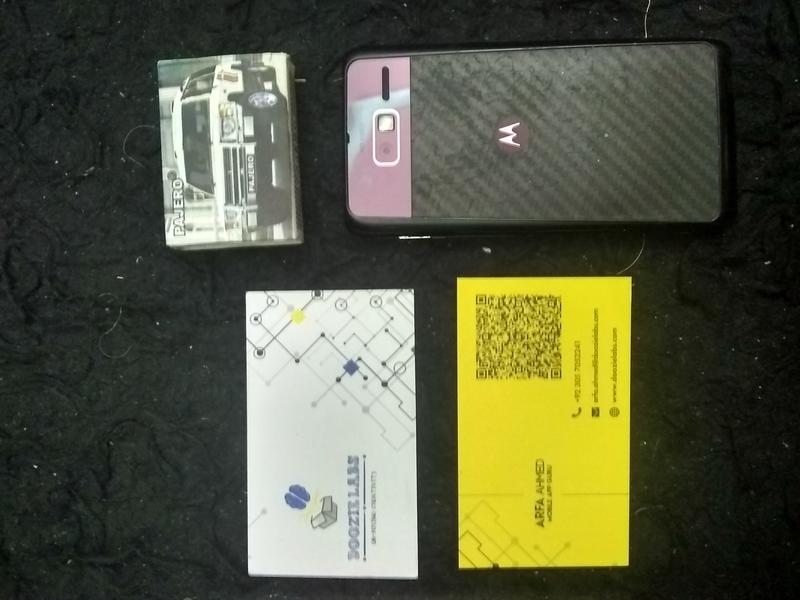back: (245, 291, 419, 581)
front: (455, 276, 634, 568)
moto: (345, 41, 722, 233)
pajero: (156, 55, 306, 247)
